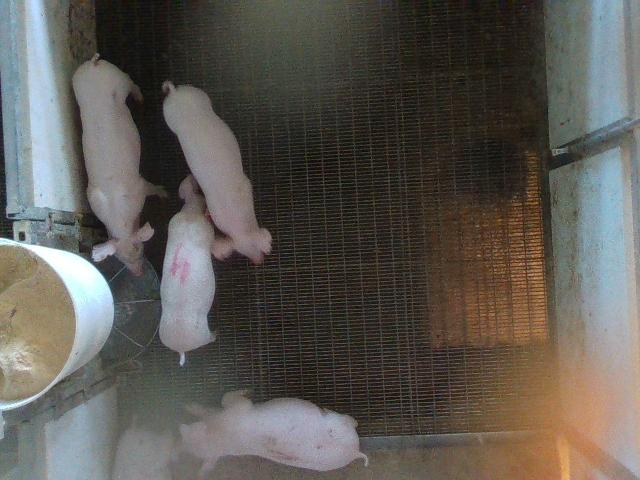pig-1: (180, 391, 369, 476)
pig-4: (159, 175, 215, 364)
